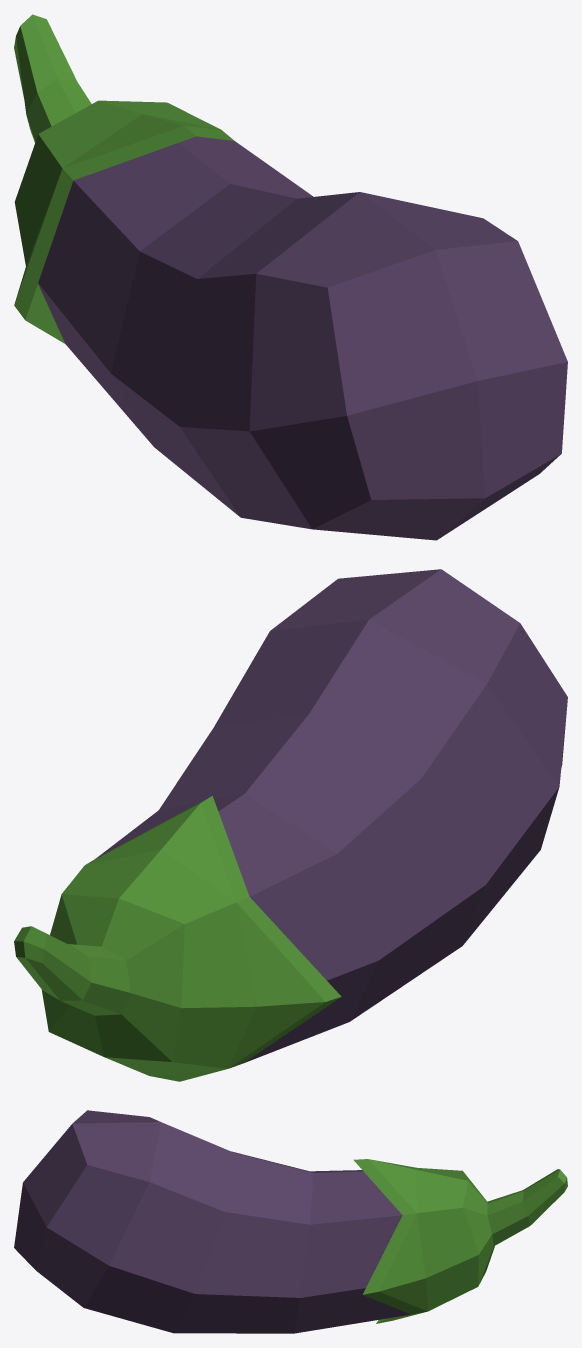
The model's file is food_eggplant.fbx.
3 renders of one model, top to bottom at view 1: azimuth 30°, elevation 25°; view 2: azimuth 150°, elevation 25°; view 3: azimuth 270°, elevation 25°, orthographic. The views are drawn at different scales.
Parts seen in each view (by area): view 1: food_eggplant; view 2: food_eggplant; view 3: food_eggplant.
Boxes of the visible parts, <box> form: food_eggplant: <box>14,14,567,540</box>; food_eggplant: <box>14,569,567,1081</box>; food_eggplant: <box>14,1110,567,1333</box>.
Size of the model in its own units: 75.72 by 80.7 by 200.
